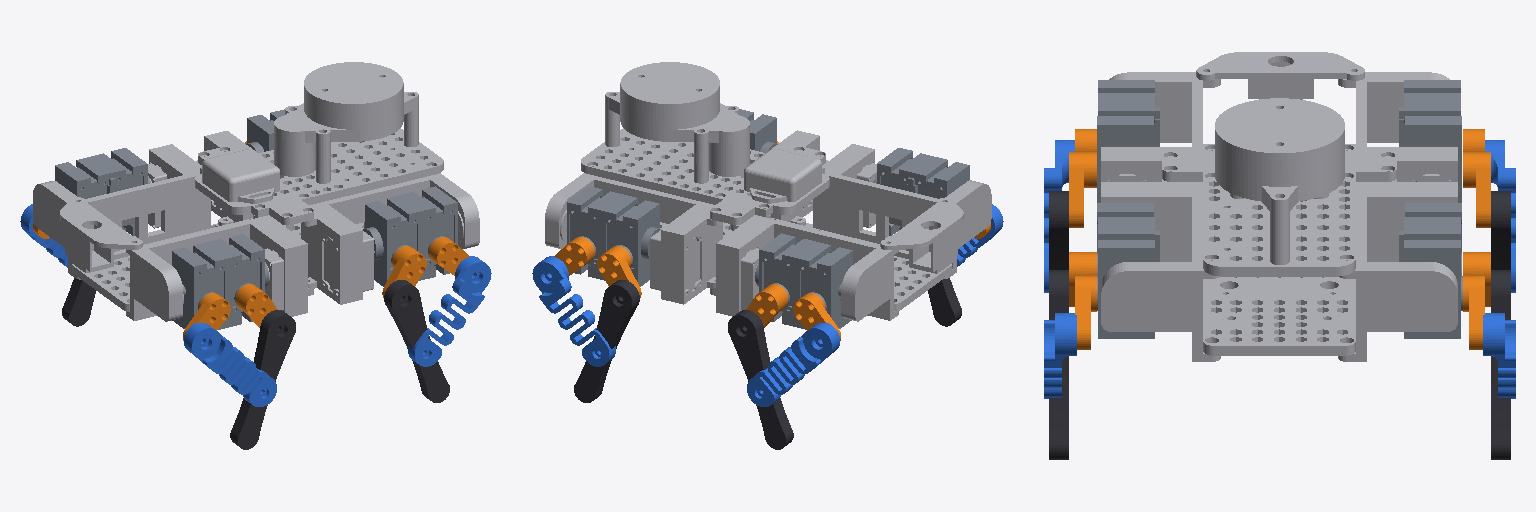
URDF robot description (linkage_quadruped):
<?xml version="1.0"?>
<robot name="linkage_quadruped">
  <material name="grey"><color rgba="0.75 0.75 0.78 1"/></material>
  <material name="dark"><color rgba="0.25 0.25 0.28 1"/></material>
  <material name="orange"><color rgba="0.95 0.55 0.15 1"/></material>
  <material name="blue"><color rgba="0.25 0.5 0.9 1"/></material>
  <material name="green"><color rgba="0.55 0.58 0.62 1"/></material>
  <link name="base_link">
    <inertial>
      <mass value="0.55"/>
      <inertia ixx="1.329e-03" ixy="0" ixz="0" iyy="3.195e-03" iyz="0" izz="3.415e-03"/>
    </inertial>
    <visual>
      <origin xyz="0.000000 0.000000 0.000000" rpy="0 0 0"/>
      <geometry><mesh filename="../meshes/body.stl" scale="0.001 0.001 0.001"/></geometry>
      <material name="grey"/>
    </visual>
    <collision>
      <origin xyz="0 0 0.1165" rpy="0 0 0"/>
      <geometry><box size="0.238 0.120 0.107"/></geometry>
    </collision>
  </link>
  <link name="rr_hip">
    <inertial>
      <mass value="0.12"/>
      <inertia ixx="1.000e-04" ixy="0" ixz="0" iyy="1.352e-04" iyz="0" izz="1.463e-04"/>
    </inertial>
    <visual>
      <origin xyz="0.062700 0.070230 -0.097000" rpy="0 0 0"/>
      <geometry><mesh filename="../meshes/rr_hip.stl" scale="0.001 0.001 0.001"/></geometry>
      <material name="green"/>
    </visual>
  </link>
  <joint name="rr_waist" type="revolute">
    <parent link="base_link"/><child link="rr_hip"/>
    <origin xyz="-0.062700 -0.070230 0.097000" rpy="0 0 0"/>
    <axis xyz="1 0 0"/>
    <limit lower="-0.7" upper="0.7" effort="0.52" velocity="10.8"/>
    <dynamics damping="0.002" friction="0.0"/>
  </joint>
  <link name="rr_crank1">
    <inertial>
      <mass value="0.012"/>
      <inertia ixx="1.000e-04" ixy="0" ixz="0" iyy="1.000e-04" iyz="0" izz="1.000e-04"/>
    </inertial>
    <visual>
      <origin xyz="0.049950 0.090481 -0.090500" rpy="0 0 0"/>
      <geometry><mesh filename="../meshes/rr_crank1.stl" scale="0.001 0.001 0.001"/></geometry>
      <material name="orange"/>
    </visual>
  </link>
  <joint name="rr_hip1" type="continuous">
    <parent link="rr_hip"/><child link="rr_crank1"/>
    <origin xyz="0.012750 -0.020251 -0.006500" rpy="0 0 0"/>
    <axis xyz="0 1 0"/><dynamics damping="0.001" friction="0.0"/>
  </joint>
  <link name="rr_leg">
    <inertial>
      <mass value="0.045"/>
      <inertia ixx="1.000e-04" ixy="0" ixz="0" iyy="1.000e-04" iyz="0" izz="1.000e-04"/>
    </inertial>
    <visual>
      <origin xyz="0.038478 0.101431 -0.074117" rpy="0 0 0"/>
      <geometry><mesh filename="../meshes/rr_leg.stl" scale="0.001 0.001 0.001"/></geometry>
      <material name="dark"/>
    </visual>
    <collision>
      <origin xyz="-0.023660 0 -0.065997" rpy="0 0 0"/>
      <geometry><sphere radius="0.0075"/></geometry>
    </collision>
  </link>
  <joint name="rr_knee" type="continuous">
    <parent link="rr_crank1"/><child link="rr_leg"/>
    <origin xyz="0.011472 -0.010950 -0.016383" rpy="0 0 0"/>
    <axis xyz="0 1 0"/><dynamics damping="0.0005" friction="0.0"/>
  </joint>
  <link name="rr_crank2">
    <inertial>
      <mass value="0.012"/>
      <inertia ixx="1.000e-04" ixy="0" ixz="0" iyy="1.000e-04" iyz="0" izz="1.000e-04"/>
    </inertial>
    <visual>
      <origin xyz="0.075450 0.088981 -0.090500" rpy="0 0 0"/>
      <geometry><mesh filename="../meshes/rr_crank2.stl" scale="0.001 0.001 0.001"/></geometry>
      <material name="orange"/>
    </visual>
  </link>
  <joint name="rr_hip2" type="continuous">
    <parent link="rr_hip"/><child link="rr_crank2"/>
    <origin xyz="-0.012750 -0.018751 -0.006500" rpy="0 0 0"/>
    <axis xyz="0 1 0"/><dynamics damping="0.001" friction="0.0"/>
  </joint>
  <link name="rr_rod">
    <inertial>
      <mass value="0.02"/>
      <inertia ixx="1.000e-04" ixy="0" ixz="0" iyy="1.000e-04" iyz="0" izz="1.000e-04"/>
    </inertial>
    <visual>
      <origin xyz="0.089592 0.100726 -0.076358" rpy="0 0 0"/>
      <geometry><mesh filename="../meshes/rr_rod.stl" scale="0.001 0.001 0.001"/></geometry>
      <material name="blue"/>
    </visual>
  </link>
  <joint name="rr_rodj" type="continuous">
    <parent link="rr_crank2"/><child link="rr_rod"/>
    <origin xyz="-0.014142 -0.011745 -0.014142" rpy="0 0 0"/>
    <axis xyz="0 1 0"/><dynamics damping="0.0005" friction="0.0"/>
  </joint>
  <link name="fr_hip">
    <inertial>
      <mass value="0.12"/>
      <inertia ixx="1.000e-04" ixy="0" ixz="0" iyy="1.352e-04" iyz="0" izz="1.463e-04"/>
    </inertial>
    <visual>
      <origin xyz="-0.071800 0.070230 -0.097000" rpy="0 0 0"/>
      <geometry><mesh filename="../meshes/fr_hip.stl" scale="0.001 0.001 0.001"/></geometry>
      <material name="green"/>
    </visual>
  </link>
  <joint name="fr_waist" type="revolute">
    <parent link="base_link"/><child link="fr_hip"/>
    <origin xyz="0.071800 -0.070230 0.097000" rpy="0 0 0"/>
    <axis xyz="1 0 0"/>
    <limit lower="-0.7" upper="0.7" effort="0.52" velocity="10.8"/>
    <dynamics damping="0.002" friction="0.0"/>
  </joint>
  <link name="fr_crank1">
    <inertial>
      <mass value="0.012"/>
      <inertia ixx="1.000e-04" ixy="0" ixz="0" iyy="1.000e-04" iyz="0" izz="1.000e-04"/>
    </inertial>
    <visual>
      <origin xyz="-0.059050 0.090481 -0.090500" rpy="0 0 0"/>
      <geometry><mesh filename="../meshes/fr_crank1.stl" scale="0.001 0.001 0.001"/></geometry>
      <material name="orange"/>
    </visual>
  </link>
  <joint name="fr_hip1" type="continuous">
    <parent link="fr_hip"/><child link="fr_crank1"/>
    <origin xyz="-0.012750 -0.020251 -0.006500" rpy="0 0 0"/>
    <axis xyz="0 1 0"/><dynamics damping="0.001" friction="0.0"/>
  </joint>
  <link name="fr_leg">
    <inertial>
      <mass value="0.045"/>
      <inertia ixx="1.000e-04" ixy="0" ixz="0" iyy="1.000e-04" iyz="0" izz="1.000e-04"/>
    </inertial>
    <visual>
      <origin xyz="-0.047578 0.101431 -0.074117" rpy="0 0 0"/>
      <geometry><mesh filename="../meshes/fr_leg.stl" scale="0.001 0.001 0.001"/></geometry>
      <material name="dark"/>
    </visual>
    <collision>
      <origin xyz="0.023660 0 -0.065997" rpy="0 0 0"/>
      <geometry><sphere radius="0.0075"/></geometry>
    </collision>
  </link>
  <joint name="fr_knee" type="continuous">
    <parent link="fr_crank1"/><child link="fr_leg"/>
    <origin xyz="-0.011472 -0.010950 -0.016383" rpy="0 0 0"/>
    <axis xyz="0 1 0"/><dynamics damping="0.0005" friction="0.0"/>
  </joint>
  <link name="fr_crank2">
    <inertial>
      <mass value="0.012"/>
      <inertia ixx="1.000e-04" ixy="0" ixz="0" iyy="1.000e-04" iyz="0" izz="1.000e-04"/>
    </inertial>
    <visual>
      <origin xyz="-0.084550 0.088981 -0.090500" rpy="0 0 0"/>
      <geometry><mesh filename="../meshes/fr_crank2.stl" scale="0.001 0.001 0.001"/></geometry>
      <material name="orange"/>
    </visual>
  </link>
  <joint name="fr_hip2" type="continuous">
    <parent link="fr_hip"/><child link="fr_crank2"/>
    <origin xyz="0.012750 -0.018751 -0.006500" rpy="0 0 0"/>
    <axis xyz="0 1 0"/><dynamics damping="0.001" friction="0.0"/>
  </joint>
  <link name="fr_rod">
    <inertial>
      <mass value="0.02"/>
      <inertia ixx="1.000e-04" ixy="0" ixz="0" iyy="1.000e-04" iyz="0" izz="1.000e-04"/>
    </inertial>
    <visual>
      <origin xyz="-0.098692 0.100726 -0.076358" rpy="0 0 0"/>
      <geometry><mesh filename="../meshes/fr_rod.stl" scale="0.001 0.001 0.001"/></geometry>
      <material name="blue"/>
    </visual>
  </link>
  <joint name="fr_rodj" type="continuous">
    <parent link="fr_crank2"/><child link="fr_rod"/>
    <origin xyz="0.014142 -0.011745 -0.014142" rpy="0 0 0"/>
    <axis xyz="0 1 0"/><dynamics damping="0.0005" friction="0.0"/>
  </joint>
  <link name="rl_hip">
    <inertial>
      <mass value="0.12"/>
      <inertia ixx="1.000e-04" ixy="0" ixz="0" iyy="1.352e-04" iyz="0" izz="1.463e-04"/>
    </inertial>
    <visual>
      <origin xyz="0.062700 -0.070230 -0.097000" rpy="0 0 0"/>
      <geometry><mesh filename="../meshes/rl_hip.stl" scale="0.001 0.001 0.001"/></geometry>
      <material name="green"/>
    </visual>
  </link>
  <joint name="rl_waist" type="revolute">
    <parent link="base_link"/><child link="rl_hip"/>
    <origin xyz="-0.062700 0.070230 0.097000" rpy="0 0 0"/>
    <axis xyz="1 0 0"/>
    <limit lower="-0.7" upper="0.7" effort="0.52" velocity="10.8"/>
    <dynamics damping="0.002" friction="0.0"/>
  </joint>
  <link name="rl_crank1">
    <inertial>
      <mass value="0.012"/>
      <inertia ixx="1.000e-04" ixy="0" ixz="0" iyy="1.000e-04" iyz="0" izz="1.000e-04"/>
    </inertial>
    <visual>
      <origin xyz="0.049950 -0.090481 -0.090500" rpy="0 0 0"/>
      <geometry><mesh filename="../meshes/rl_crank1.stl" scale="0.001 0.001 0.001"/></geometry>
      <material name="orange"/>
    </visual>
  </link>
  <joint name="rl_hip1" type="continuous">
    <parent link="rl_hip"/><child link="rl_crank1"/>
    <origin xyz="0.012750 0.020251 -0.006500" rpy="0 0 0"/>
    <axis xyz="0 1 0"/><dynamics damping="0.001" friction="0.0"/>
  </joint>
  <link name="rl_leg">
    <inertial>
      <mass value="0.045"/>
      <inertia ixx="1.000e-04" ixy="0" ixz="0" iyy="1.000e-04" iyz="0" izz="1.000e-04"/>
    </inertial>
    <visual>
      <origin xyz="0.038478 -0.101431 -0.074117" rpy="0 0 0"/>
      <geometry><mesh filename="../meshes/rl_leg.stl" scale="0.001 0.001 0.001"/></geometry>
      <material name="dark"/>
    </visual>
    <collision>
      <origin xyz="-0.023660 0 -0.065997" rpy="0 0 0"/>
      <geometry><sphere radius="0.0075"/></geometry>
    </collision>
  </link>
  <joint name="rl_knee" type="continuous">
    <parent link="rl_crank1"/><child link="rl_leg"/>
    <origin xyz="0.011472 0.010950 -0.016383" rpy="0 0 0"/>
    <axis xyz="0 1 0"/><dynamics damping="0.0005" friction="0.0"/>
  </joint>
  <link name="rl_crank2">
    <inertial>
      <mass value="0.012"/>
      <inertia ixx="1.000e-04" ixy="0" ixz="0" iyy="1.000e-04" iyz="0" izz="1.000e-04"/>
    </inertial>
    <visual>
      <origin xyz="0.075450 -0.088981 -0.090500" rpy="0 0 0"/>
      <geometry><mesh filename="../meshes/rl_crank2.stl" scale="0.001 0.001 0.001"/></geometry>
      <material name="orange"/>
    </visual>
  </link>
  <joint name="rl_hip2" type="continuous">
    <parent link="rl_hip"/><child link="rl_crank2"/>
    <origin xyz="-0.012750 0.018751 -0.006500" rpy="0 0 0"/>
    <axis xyz="0 1 0"/><dynamics damping="0.001" friction="0.0"/>
  </joint>
  <link name="rl_rod">
    <inertial>
      <mass value="0.02"/>
      <inertia ixx="1.000e-04" ixy="0" ixz="0" iyy="1.000e-04" iyz="0" izz="1.000e-04"/>
    </inertial>
    <visual>
      <origin xyz="0.089592 -0.100726 -0.076358" rpy="0 0 0"/>
      <geometry><mesh filename="../meshes/rl_rod.stl" scale="0.001 0.001 0.001"/></geometry>
      <material name="blue"/>
    </visual>
  </link>
  <joint name="rl_rodj" type="continuous">
    <parent link="rl_crank2"/><child link="rl_rod"/>
    <origin xyz="-0.014142 0.011745 -0.014142" rpy="0 0 0"/>
    <axis xyz="0 1 0"/><dynamics damping="0.0005" friction="0.0"/>
  </joint>
  <link name="fl_hip">
    <inertial>
      <mass value="0.12"/>
      <inertia ixx="1.000e-04" ixy="0" ixz="0" iyy="1.352e-04" iyz="0" izz="1.463e-04"/>
    </inertial>
    <visual>
      <origin xyz="-0.071800 -0.070230 -0.097000" rpy="0 0 0"/>
      <geometry><mesh filename="../meshes/fl_hip.stl" scale="0.001 0.001 0.001"/></geometry>
      <material name="green"/>
    </visual>
  </link>
  <joint name="fl_waist" type="revolute">
    <parent link="base_link"/><child link="fl_hip"/>
    <origin xyz="0.071800 0.070230 0.097000" rpy="0 0 0"/>
    <axis xyz="1 0 0"/>
    <limit lower="-0.7" upper="0.7" effort="0.52" velocity="10.8"/>
    <dynamics damping="0.002" friction="0.0"/>
  </joint>
  <link name="fl_crank1">
    <inertial>
      <mass value="0.012"/>
      <inertia ixx="1.000e-04" ixy="0" ixz="0" iyy="1.000e-04" iyz="0" izz="1.000e-04"/>
    </inertial>
    <visual>
      <origin xyz="-0.059050 -0.090481 -0.090500" rpy="0 0 0"/>
      <geometry><mesh filename="../meshes/fl_crank1.stl" scale="0.001 0.001 0.001"/></geometry>
      <material name="orange"/>
    </visual>
  </link>
  <joint name="fl_hip1" type="continuous">
    <parent link="fl_hip"/><child link="fl_crank1"/>
    <origin xyz="-0.012750 0.020251 -0.006500" rpy="0 0 0"/>
    <axis xyz="0 1 0"/><dynamics damping="0.001" friction="0.0"/>
  </joint>
  <link name="fl_leg">
    <inertial>
      <mass value="0.045"/>
      <inertia ixx="1.000e-04" ixy="0" ixz="0" iyy="1.000e-04" iyz="0" izz="1.000e-04"/>
    </inertial>
    <visual>
      <origin xyz="-0.047578 -0.101431 -0.074117" rpy="0 0 0"/>
      <geometry><mesh filename="../meshes/fl_leg.stl" scale="0.001 0.001 0.001"/></geometry>
      <material name="dark"/>
    </visual>
    <collision>
      <origin xyz="0.023660 0 -0.065997" rpy="0 0 0"/>
      <geometry><sphere radius="0.0075"/></geometry>
    </collision>
  </link>
  <joint name="fl_knee" type="continuous">
    <parent link="fl_crank1"/><child link="fl_leg"/>
    <origin xyz="-0.011472 0.010950 -0.016383" rpy="0 0 0"/>
    <axis xyz="0 1 0"/><dynamics damping="0.0005" friction="0.0"/>
  </joint>
  <link name="fl_crank2">
    <inertial>
      <mass value="0.012"/>
      <inertia ixx="1.000e-04" ixy="0" ixz="0" iyy="1.000e-04" iyz="0" izz="1.000e-04"/>
    </inertial>
    <visual>
      <origin xyz="-0.084550 -0.088981 -0.090500" rpy="0 0 0"/>
      <geometry><mesh filename="../meshes/fl_crank2.stl" scale="0.001 0.001 0.001"/></geometry>
      <material name="orange"/>
    </visual>
  </link>
  <joint name="fl_hip2" type="continuous">
    <parent link="fl_hip"/><child link="fl_crank2"/>
    <origin xyz="0.012750 0.018751 -0.006500" rpy="0 0 0"/>
    <axis xyz="0 1 0"/><dynamics damping="0.001" friction="0.0"/>
  </joint>
  <link name="fl_rod">
    <inertial>
      <mass value="0.02"/>
      <inertia ixx="1.000e-04" ixy="0" ixz="0" iyy="1.000e-04" iyz="0" izz="1.000e-04"/>
    </inertial>
    <visual>
      <origin xyz="-0.098692 -0.100726 -0.076358" rpy="0 0 0"/>
      <geometry><mesh filename="../meshes/fl_rod.stl" scale="0.001 0.001 0.001"/></geometry>
      <material name="blue"/>
    </visual>
  </link>
  <joint name="fl_rodj" type="continuous">
    <parent link="fl_crank2"/><child link="fl_rod"/>
    <origin xyz="0.014142 0.011745 -0.014142" rpy="0 0 0"/>
    <axis xyz="0 1 0"/><dynamics damping="0.0005" friction="0.0"/>
  </joint>
</robot>

--- Facts derived from the render (not from the file) ---
The picture shows the robot from 3 angles, left to right: view 1: azimuth 30°, elevation 25°; view 2: azimuth 150°, elevation 25°; view 3: azimuth 270°, elevation 25°; orthographic projection.
Model linkage_quadruped with 21 links and 20 joints (4 revolute, 16 continuous), rooted at base_link, posed all joints at 0.
Visible links, largest first — view 1: base_link, fr_hip, rr_hip, rr_rod, rl_hip, fr_rod, rr_leg, fr_leg, rl_leg, fr_crank1, fl_hip, rr_crank1 (+3 smaller); view 2: base_link, fl_hip, rl_hip, rl_rod, rr_hip, fl_rod, rl_leg, fl_leg, rr_leg, fl_crank1, fr_hip, rl_crank1 (+3 smaller); view 3: base_link, fl_hip, fr_hip, rr_hip, rl_hip, fr_leg, fl_leg, fr_rod, fl_rod, rr_crank1, rl_crank1, rr_leg (+7 smaller).
Boxes of the visible links, x1=… form: base_link: x1=33, y1=62, x2=479, y2=321; fr_hip: x1=363, y1=186, x2=457, y2=286; rr_hip: x1=172, y1=234, x2=268, y2=329; rr_rod: x1=184, y1=323, x2=276, y2=406; rl_hip: x1=55, y1=148, x2=150, y2=235; fr_rod: x1=408, y1=256, x2=491, y2=366; rr_leg: x1=230, y1=310, x2=295, y2=449; fr_leg: x1=384, y1=280, x2=449, y2=402; rl_leg: x1=62, y1=278, x2=95, y2=326; fr_crank1: x1=382, y1=246, x2=426, y2=297; fl_hip: x1=246, y1=106, x2=297, y2=152; rr_crank1: x1=236, y1=284, x2=277, y2=327; base_link: x1=545, y1=62, x2=991, y2=321; fl_hip: x1=567, y1=186, x2=660, y2=286; rl_hip: x1=755, y1=233, x2=852, y2=329; rl_rod: x1=747, y1=323, x2=839, y2=406; rr_hip: x1=873, y1=148, x2=969, y2=235; fl_rod: x1=532, y1=256, x2=615, y2=366; rl_leg: x1=728, y1=310, x2=793, y2=449; fl_leg: x1=574, y1=280, x2=639, y2=402; rr_leg: x1=928, y1=278, x2=961, y2=326; fl_crank1: x1=597, y1=246, x2=641, y2=297; fr_hip: x1=739, y1=109, x2=777, y2=152; rl_crank1: x1=746, y1=284, x2=787, y2=327; base_link: x1=1101, y1=52, x2=1457, y2=361; fl_hip: x1=1399, y1=203, x2=1462, y2=338; fr_hip: x1=1097, y1=203, x2=1159, y2=338; rr_hip: x1=1097, y1=80, x2=1159, y2=202; rl_hip: x1=1399, y1=80, x2=1461, y2=202; fr_leg: x1=1049, y1=270, x2=1068, y2=459; fl_leg: x1=1491, y1=270, x2=1510, y2=459; fr_rod: x1=1044, y1=313, x2=1076, y2=398; fl_rod: x1=1483, y1=313, x2=1515, y2=398; rr_crank1: x1=1069, y1=152, x2=1096, y2=227; rl_crank1: x1=1463, y1=152, x2=1490, y2=227; rr_leg: x1=1049, y1=191, x2=1068, y2=269.
Bounding box of the posed robot: 0.2377 × 0.2165 × 0.1694 m (x, y, z).
Meshes: 21 distinct files referenced, 21 mesh visuals loaded (21 binary STL).
